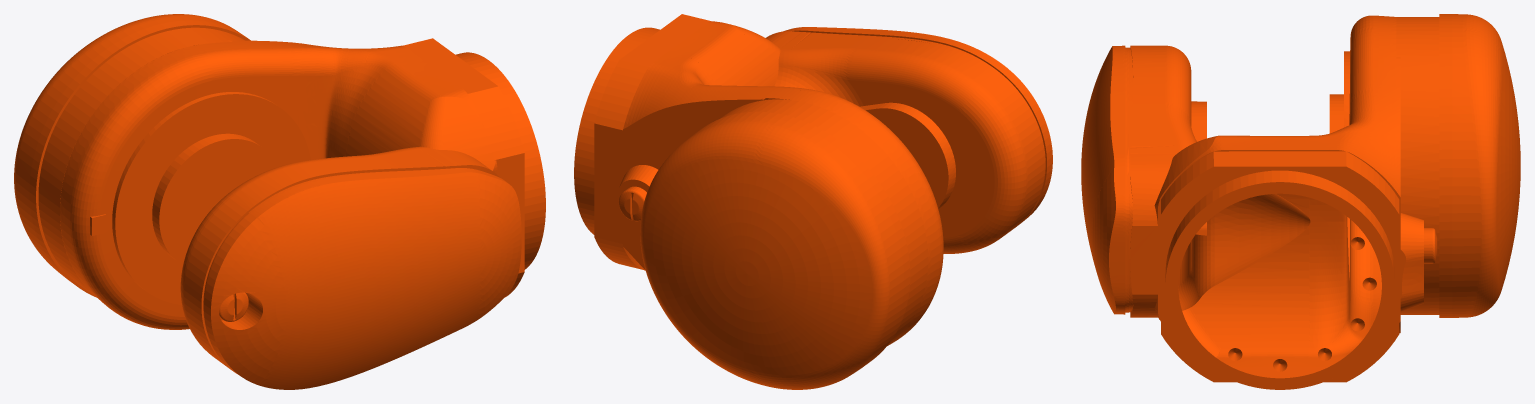
The picture shows the model from 3 angles, left to right: view 1: azimuth 30°, elevation 25°; view 2: azimuth 150°, elevation 25°; view 3: azimuth 270°, elevation 25°; orthographic projection. The views are drawn at different scales.
Visible parts, largest first — view 1: Default_0_Link_Arm_long_wrist.3ds_Wrist_Part_2_small.3ds_Wri; view 2: Default_0_Link_Arm_long_wrist.3ds_Wrist_Part_2_small.3ds_Wri; view 3: Default_0_Link_Arm_long_wrist.3ds_Wrist_Part_2_small.3ds_Wri.
Boxes of the visible parts, bbox=[...] form: Default_0_Link_Arm_long_wrist.3ds_Wrist_Part_2_small.3ds_Wri: bbox=[14, 14, 545, 389]; Default_0_Link_Arm_long_wrist.3ds_Wrist_Part_2_small.3ds_Wri: bbox=[574, 14, 1052, 389]; Default_0_Link_Arm_long_wrist.3ds_Wrist_Part_2_small.3ds_Wri: bbox=[1081, 14, 1520, 389].
Size of the model in its own units: 0.304 by 0.3065 by 0.212.
